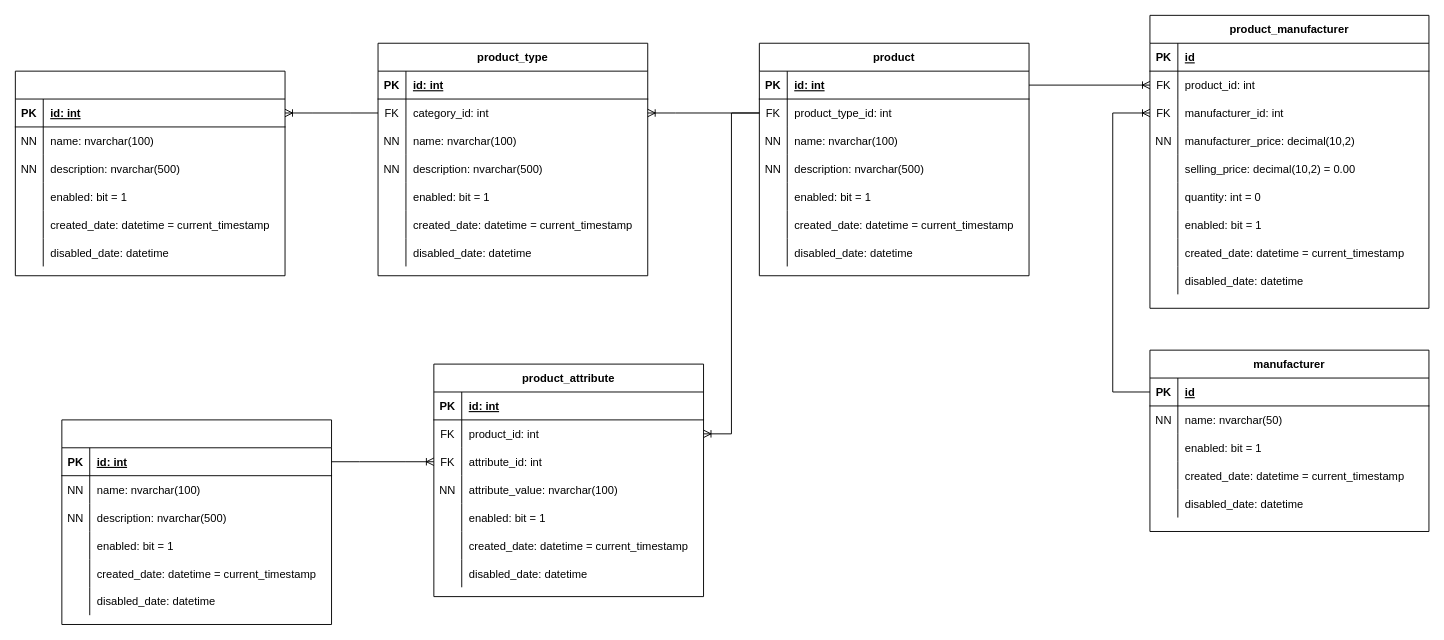
Image size: 1444x640. Some labels were removed from this diagram. Each missing label, with the box of its shape:
attribute: (61, 419, 332, 624)
category: (14, 70, 285, 276)
